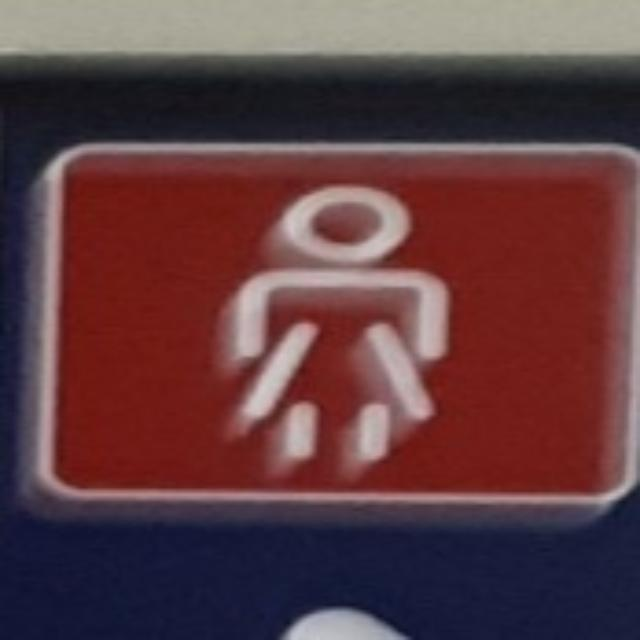womens_restroom: (29, 147, 636, 508)
